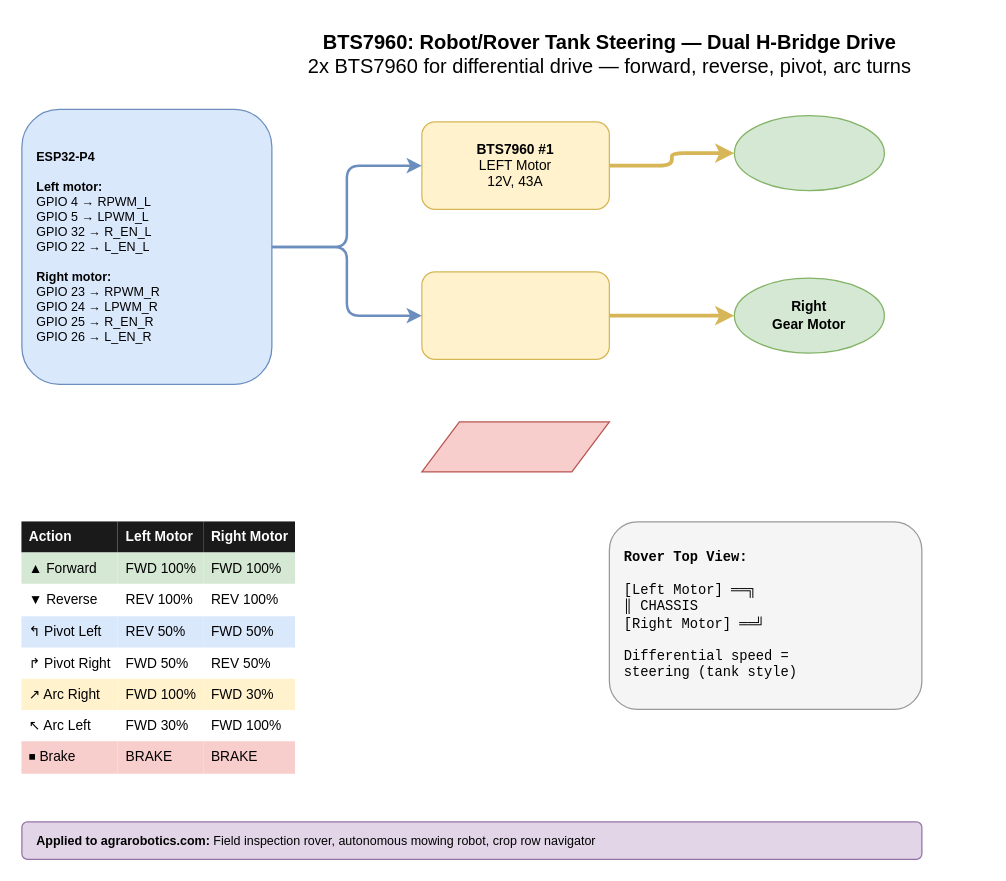
This 1006x881 diagram has some shape labels left out. The shapes that lost their labels are listed below. From the top down, each one's centre as x and y in pixels, then its label:
point (808, 152): Left Gear Motor
point (515, 315): BTS7960 #2 RIGHT Motor 12V, 43A
point (515, 446): 12V Battery
